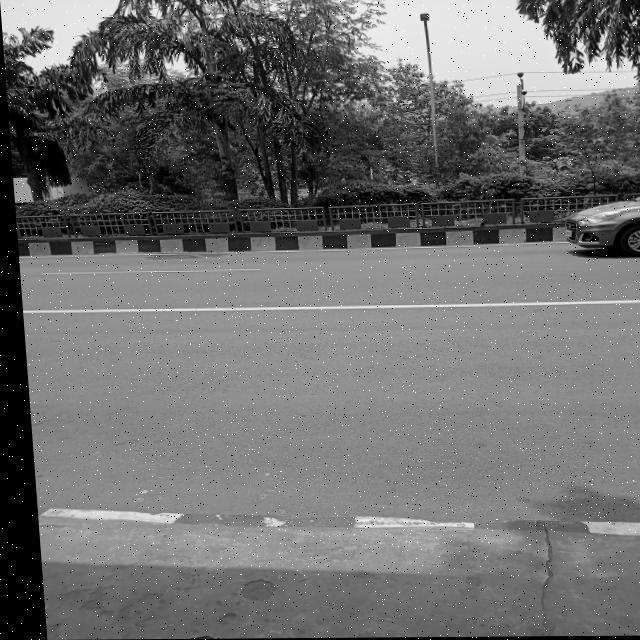car: (558, 187, 640, 267)
